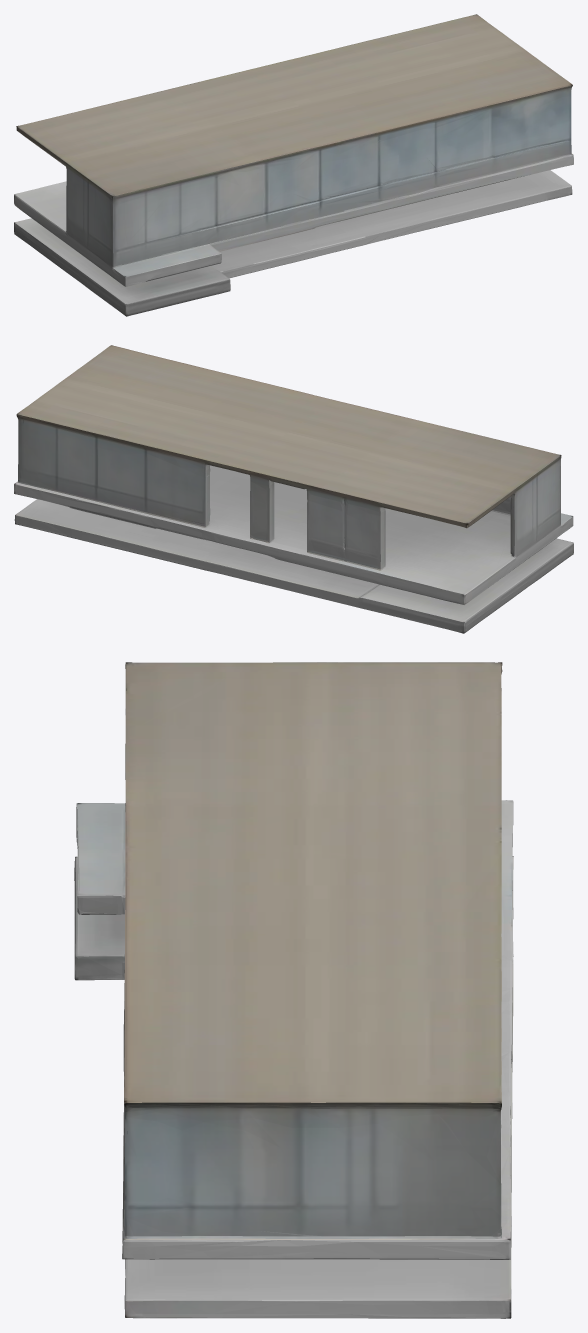
Rendered from tshirt_black.glb.
The picture shows the model from 3 angles, top to bottom: view 1: azimuth 30°, elevation 25°; view 2: azimuth 150°, elevation 25°; view 3: azimuth 270°, elevation 25°; orthographic projection. The views are drawn at different scales.
Parts seen in each view (by area): view 1: geometry_0; view 2: geometry_0; view 3: geometry_0.
Boxes of the visible parts, left/top/right/bottom form: geometry_0: left=14, top=14, right=573, bottom=316; geometry_0: left=14, top=345, right=573, bottom=633; geometry_0: left=74, top=662, right=513, bottom=1318.
Size of the model in its own units: 1 by 0.2305 by 0.421.
1 material, 1 textured.
